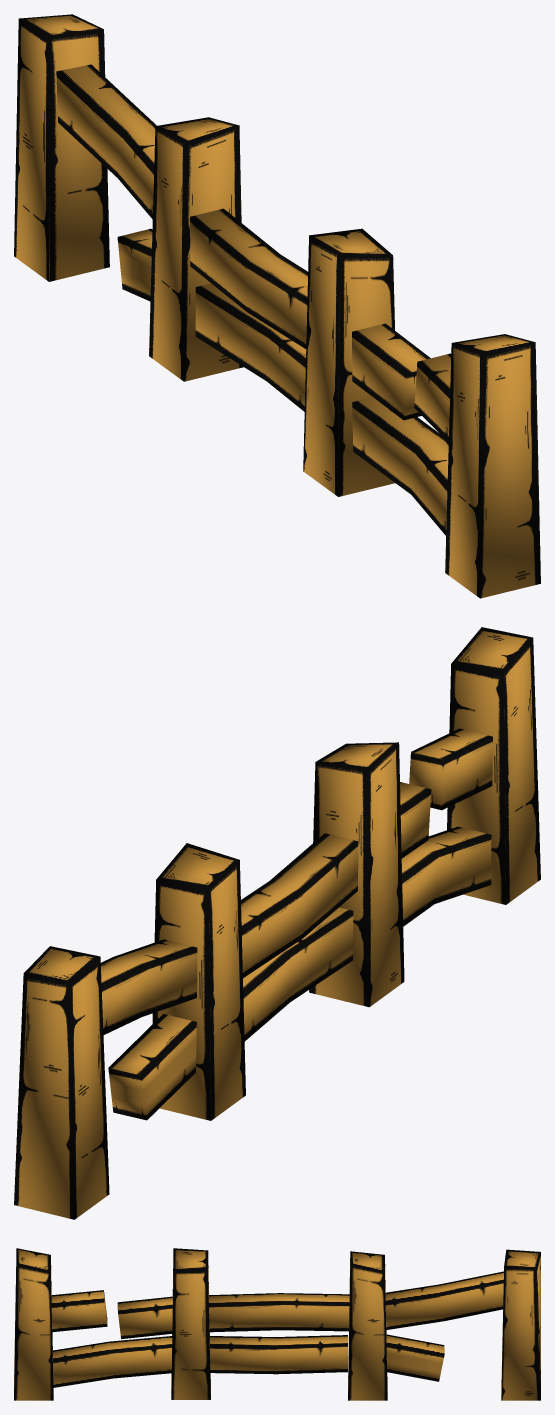
Rendered from fence_1.fbx.
The picture shows the model from 3 angles, top to bottom: view 1: azimuth 30°, elevation 25°; view 2: azimuth 150°, elevation 25°; view 3: azimuth 270°, elevation 25°; orthographic projection. The views are drawn at different scales.
Parts seen in each view (by area): view 1: tower_a.003, tower_a.004, tower_a.002, tower_a, tower_a.001, tower_a.005, tower_a.006, tower_a.009, tower_a.007, tower_a.008; view 2: tower_a.004, tower_a.003, tower_a, tower_a.002, tower_a.001, tower_a.006, tower_a.005, tower_a.007, tower_a.008, tower_a.009; view 3: tower_a.004, tower_a.002, tower_a.003, tower_a, tower_a.001, tower_a.007, tower_a.005, tower_a.009, tower_a.006, tower_a.008.
Part boxes in pixels (bbox=[...]): tower_a.003: bbox=[445, 334, 540, 598]; tower_a.004: bbox=[14, 14, 109, 281]; tower_a.002: bbox=[303, 228, 395, 496]; tower_a: bbox=[149, 117, 243, 381]; tower_a.001: bbox=[190, 208, 307, 348]; tower_a.005: bbox=[56, 64, 156, 218]; tower_a.006: bbox=[352, 323, 451, 441]; tower_a.009: bbox=[352, 397, 448, 535]; tower_a.007: bbox=[195, 283, 306, 411]; tower_a.008: bbox=[117, 228, 152, 301]; tower_a.004: bbox=[14, 946, 109, 1219]; tower_a.003: bbox=[447, 627, 540, 904]; tower_a: bbox=[152, 843, 245, 1120]; tower_a.002: bbox=[309, 742, 404, 1007]; tower_a.001: bbox=[241, 833, 358, 977]; tower_a.006: bbox=[400, 728, 492, 858]; tower_a.005: bbox=[100, 939, 197, 1034]; tower_a.007: bbox=[243, 907, 353, 1041]; tower_a.008: bbox=[108, 1014, 196, 1120]; tower_a.009: bbox=[401, 826, 491, 926]; tower_a.004: bbox=[501, 1249, 540, 1400]; tower_a.002: bbox=[171, 1248, 210, 1399]; tower_a.003: bbox=[14, 1248, 53, 1400]; tower_a: bbox=[348, 1251, 387, 1400]; tower_a.001: bbox=[209, 1293, 349, 1332]; tower_a.007: bbox=[210, 1335, 347, 1374]; tower_a.005: bbox=[385, 1271, 503, 1329]; tower_a.009: bbox=[53, 1336, 172, 1387]; tower_a.006: bbox=[51, 1290, 172, 1339]; tower_a.008: bbox=[386, 1334, 444, 1381].
Size of the model in its own units: 43.36 by 157 by 546.
